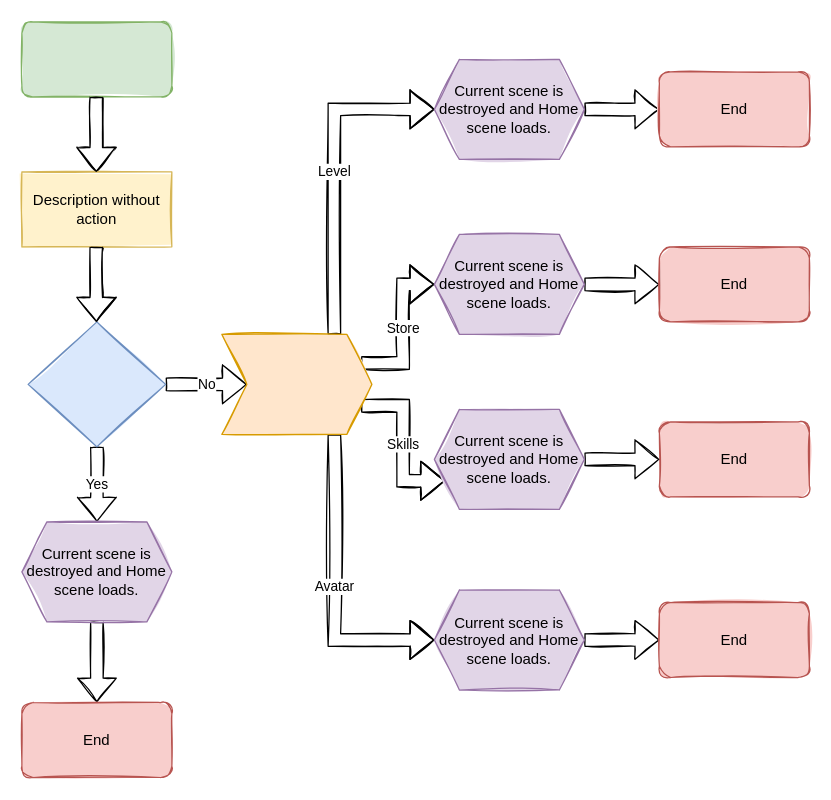
Image size: 831x800. Some labels were removed from this diagram. Each missing label, with the centre of its shape:
"- Level - Store - Skills - Avatar" belongs at pixel 296 383.
"Back button selected?" belongs at pixel 96 384.
"Start" belongs at pixel 96 59.
